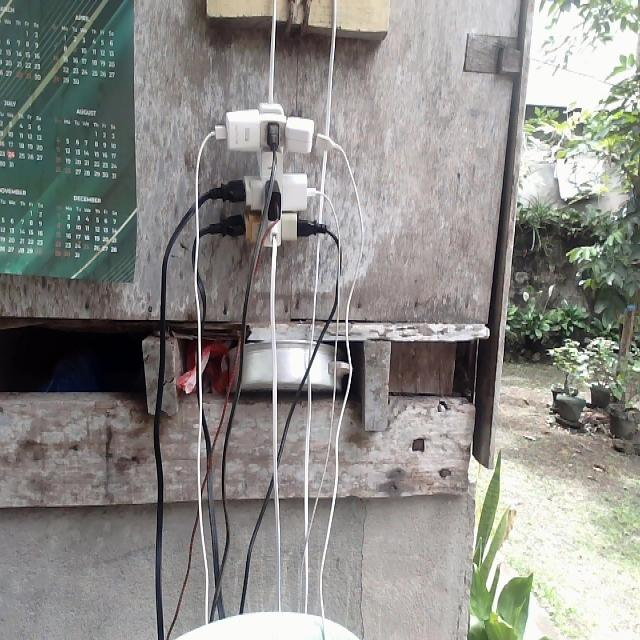-: (204, 100, 337, 253)
